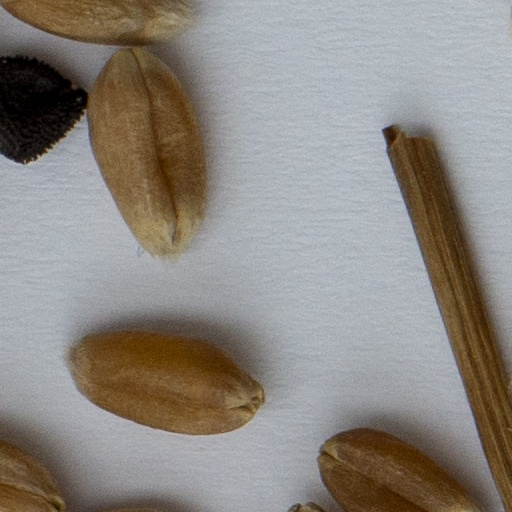Peel-poly: (384, 124, 511, 511)
